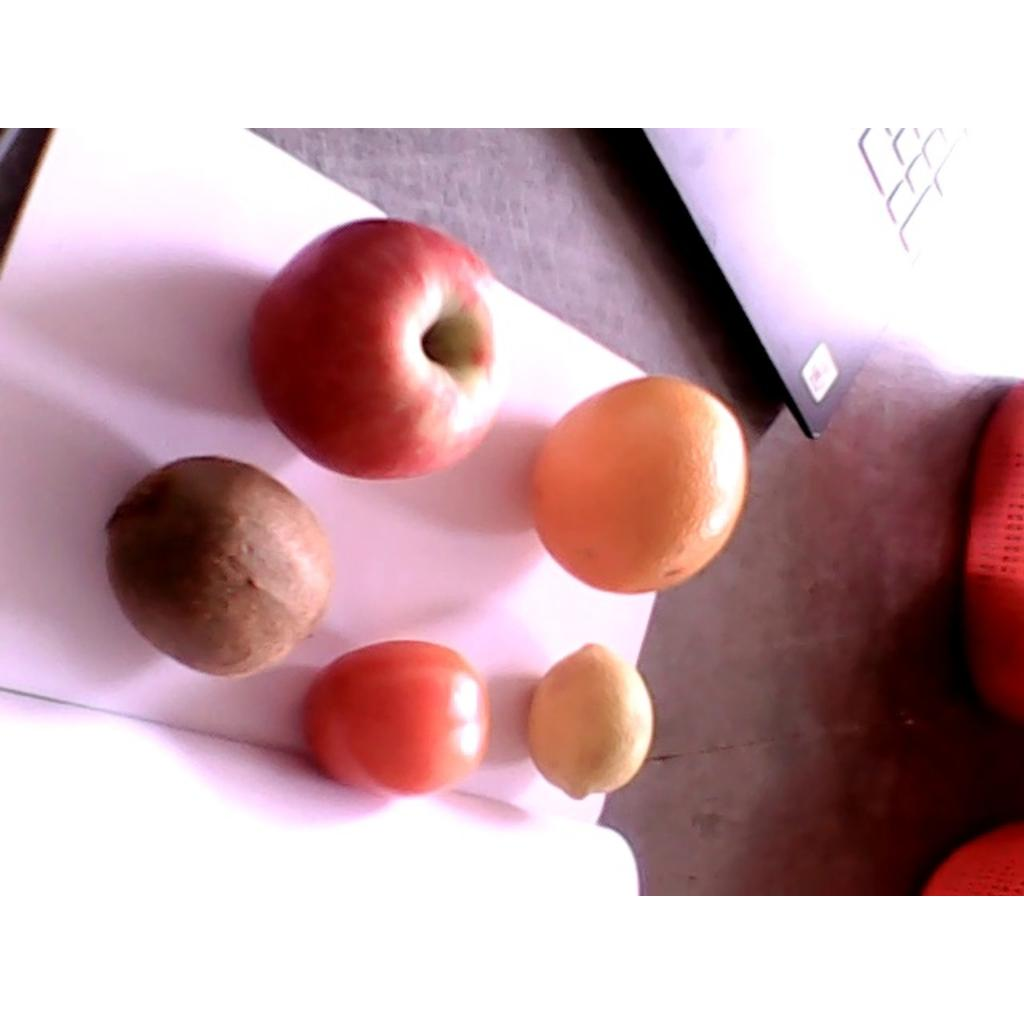apple: (249, 218, 512, 478)
kiwi: (105, 457, 339, 678)
lemon: (527, 643, 656, 800)
orange: (529, 376, 747, 591)
tomato: (306, 640, 490, 791)
